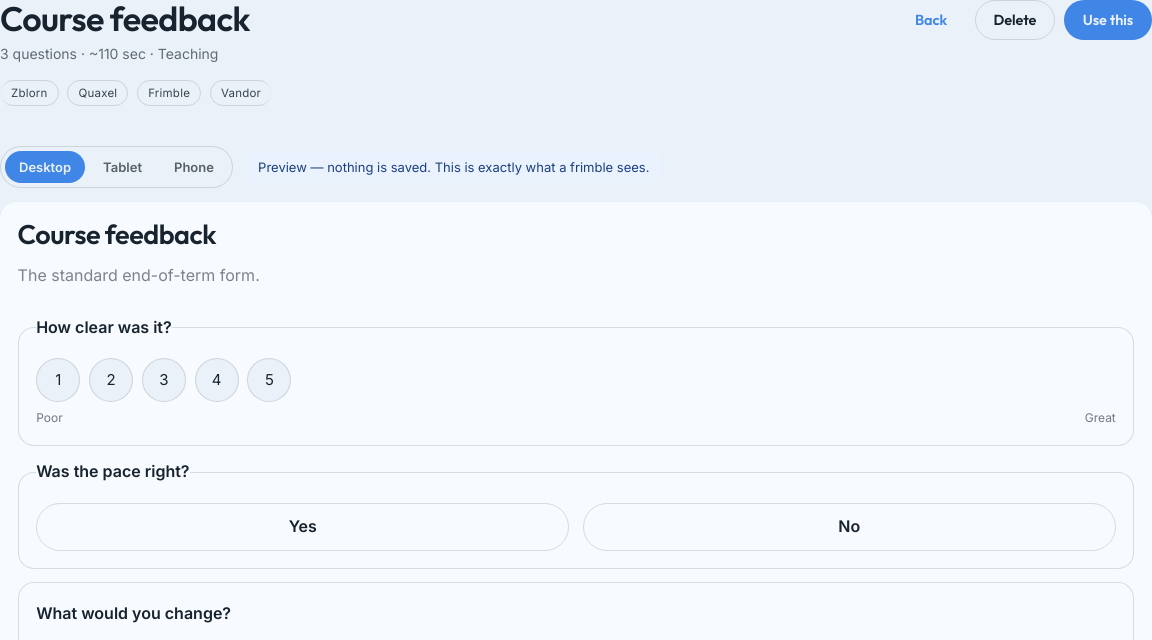
Test: the header carries the cost and the actions › cannot confirm a delete the server would refuse
The width and height of the screenshot is (1152, 640).
Click the button "Delete" at (1015, 20), box [975,0,1055,40]
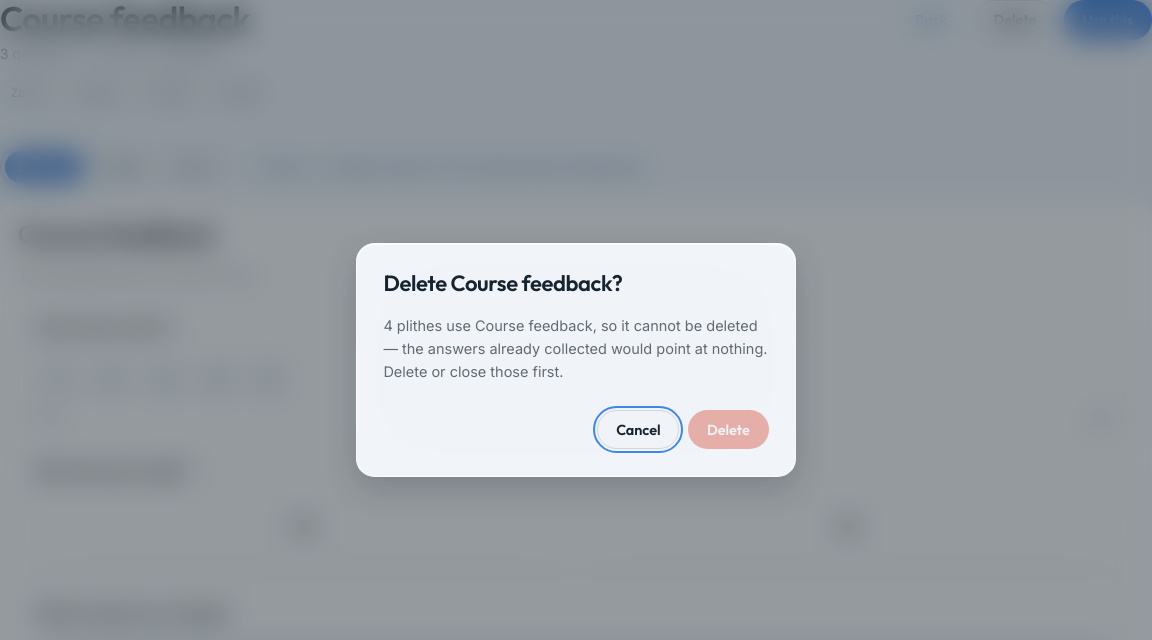
Now the text "4 plithes use Course feedback" is shown, box [383,316,768,380]
Now the button "Delete" is disabled, box [688,410,769,449]
